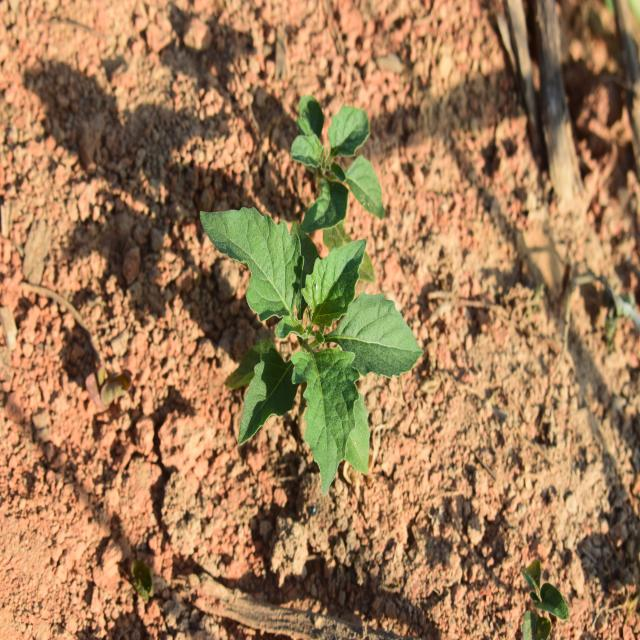Black_nightshade: (207, 208, 411, 465), (287, 91, 377, 262)
